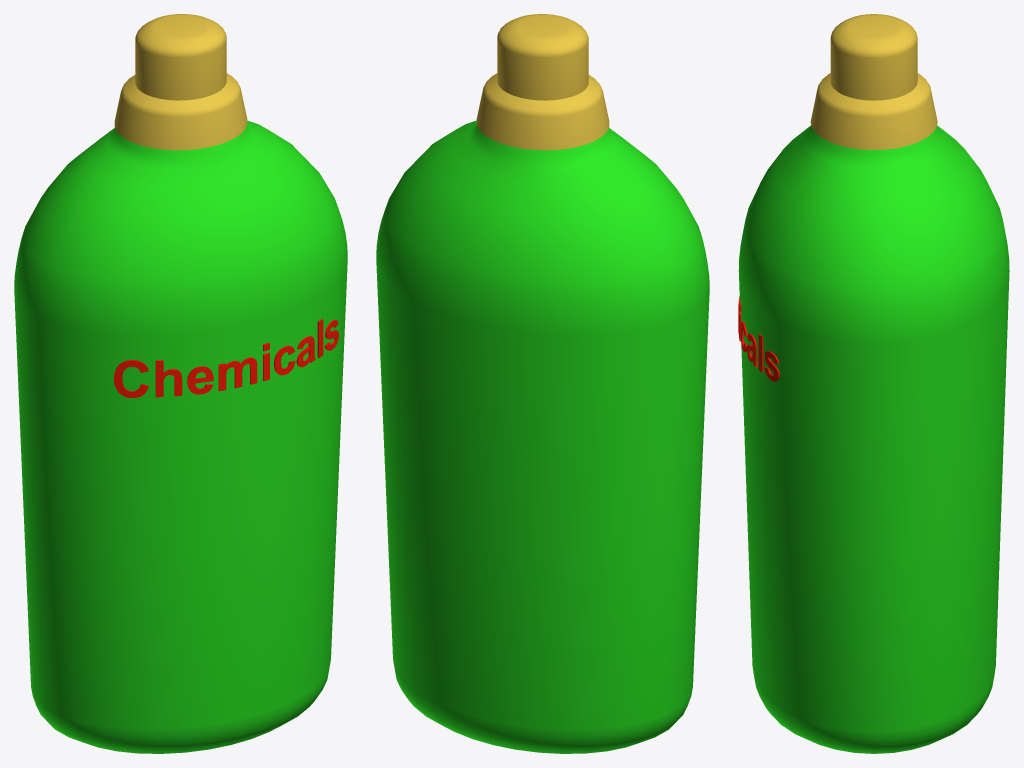
Rendered from Chemicals.fbx.
3 renders of one model, left to right at view 1: azimuth 30°, elevation 25°; view 2: azimuth 150°, elevation 25°; view 3: azimuth 270°, elevation 25°, orthographic.
Parts seen in each view (by area): view 1: Chemical_PlantFood_Botlte; view 2: Chemical_PlantFood_Botlte; view 3: Chemical_PlantFood_Botlte.
Part boxes in pixels (x1,y1,x2,y2): Chemical_PlantFood_Botlte: [14, 14, 347, 753]; Chemical_PlantFood_Botlte: [376, 14, 709, 753]; Chemical_PlantFood_Botlte: [738, 14, 1009, 753].
Bounding box in the file's own units: 19.64 × 42.1 × 15.34.
